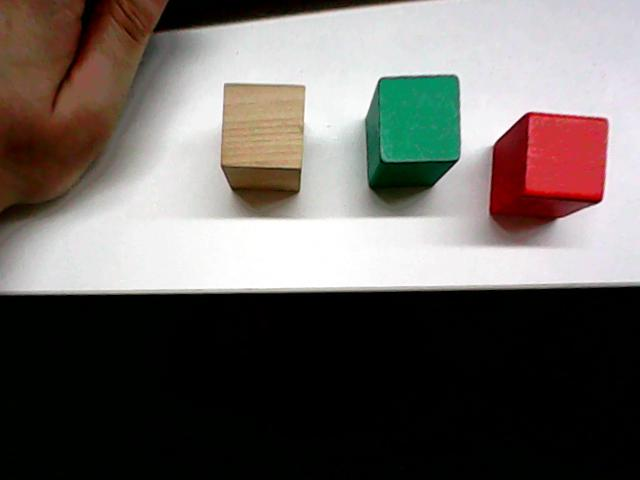green_box: (362, 70, 463, 193)
raw_box: (217, 78, 307, 196)
red_box: (486, 106, 611, 228)
